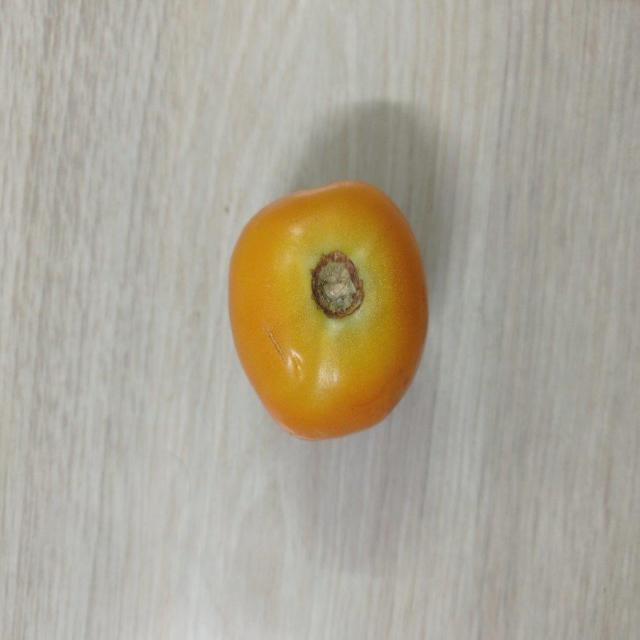Tomato: (225, 179, 433, 440)
